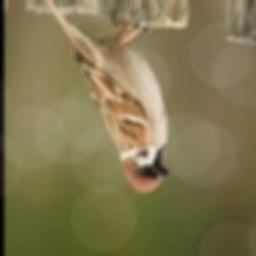Sparrow: (39, 0, 169, 193)
